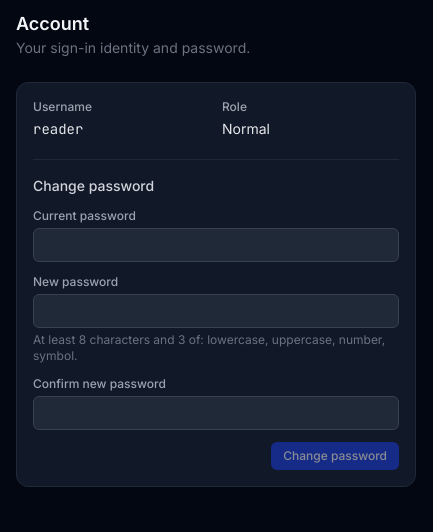
Test: Account page › submits a valid self change-password and confirms success
The image size is (433, 532).
Type "Adminpass1" into the password field labelled "Current password" at (216, 245), box [33,228,399,262]
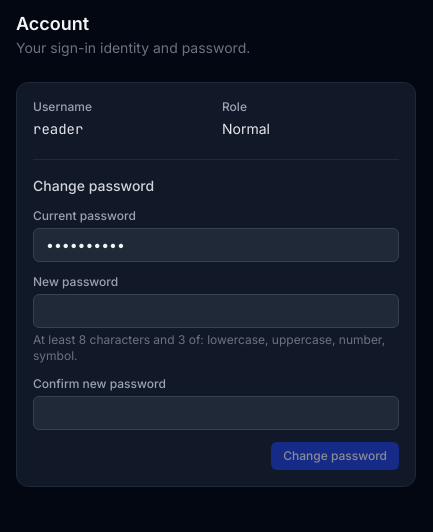
Type "Newpass123" into the password field labelled "New password" at (216, 311), box [33,294,399,328]
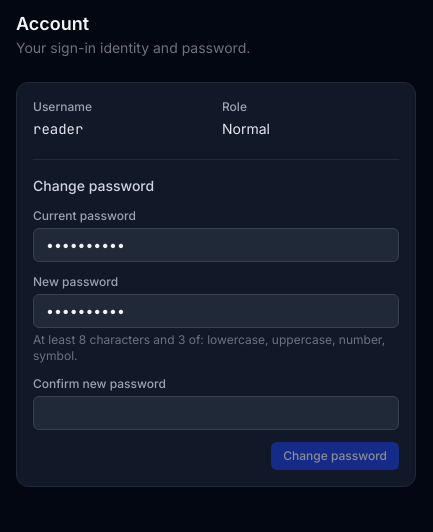
Type "Newpass123" into the password field labelled "Confirm new password" at (216, 413), box [33,396,399,430]
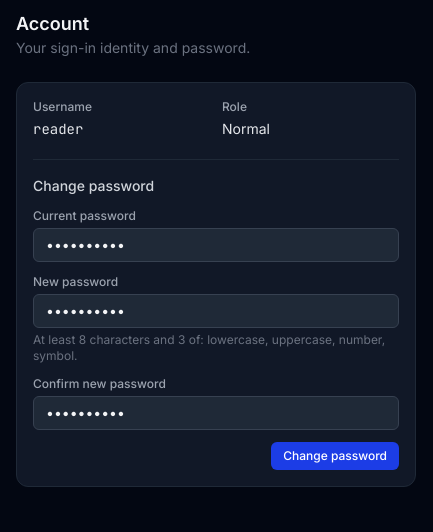
Click the button "Change password" at (335, 456), box [271,442,399,470]
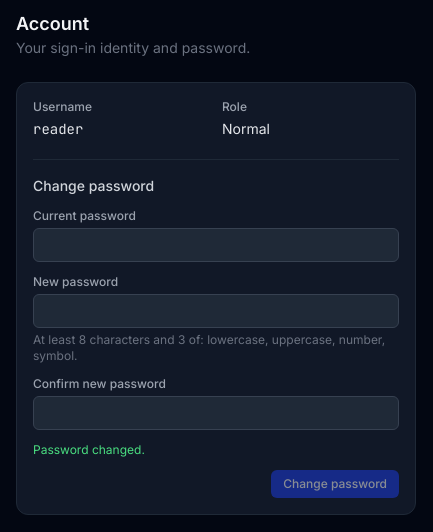
Now the text "Password changed." is shown, box [33,442,145,457]
